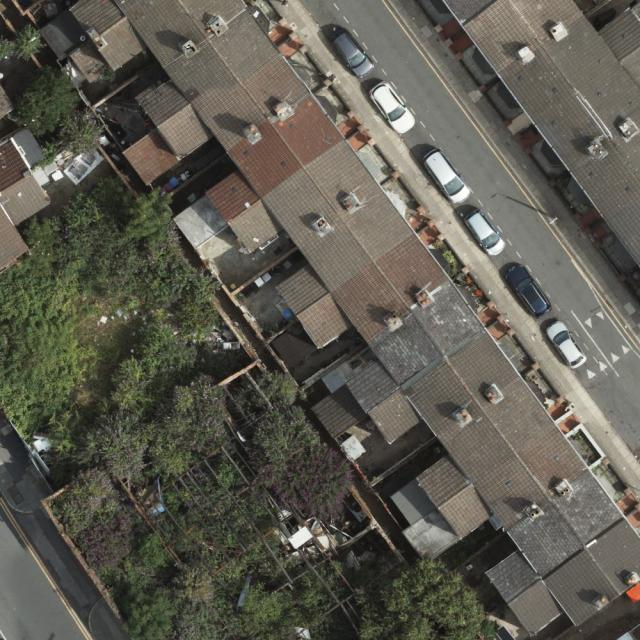roof: (41, 0, 640, 638), (442, 1, 640, 269), (0, 135, 53, 272)
